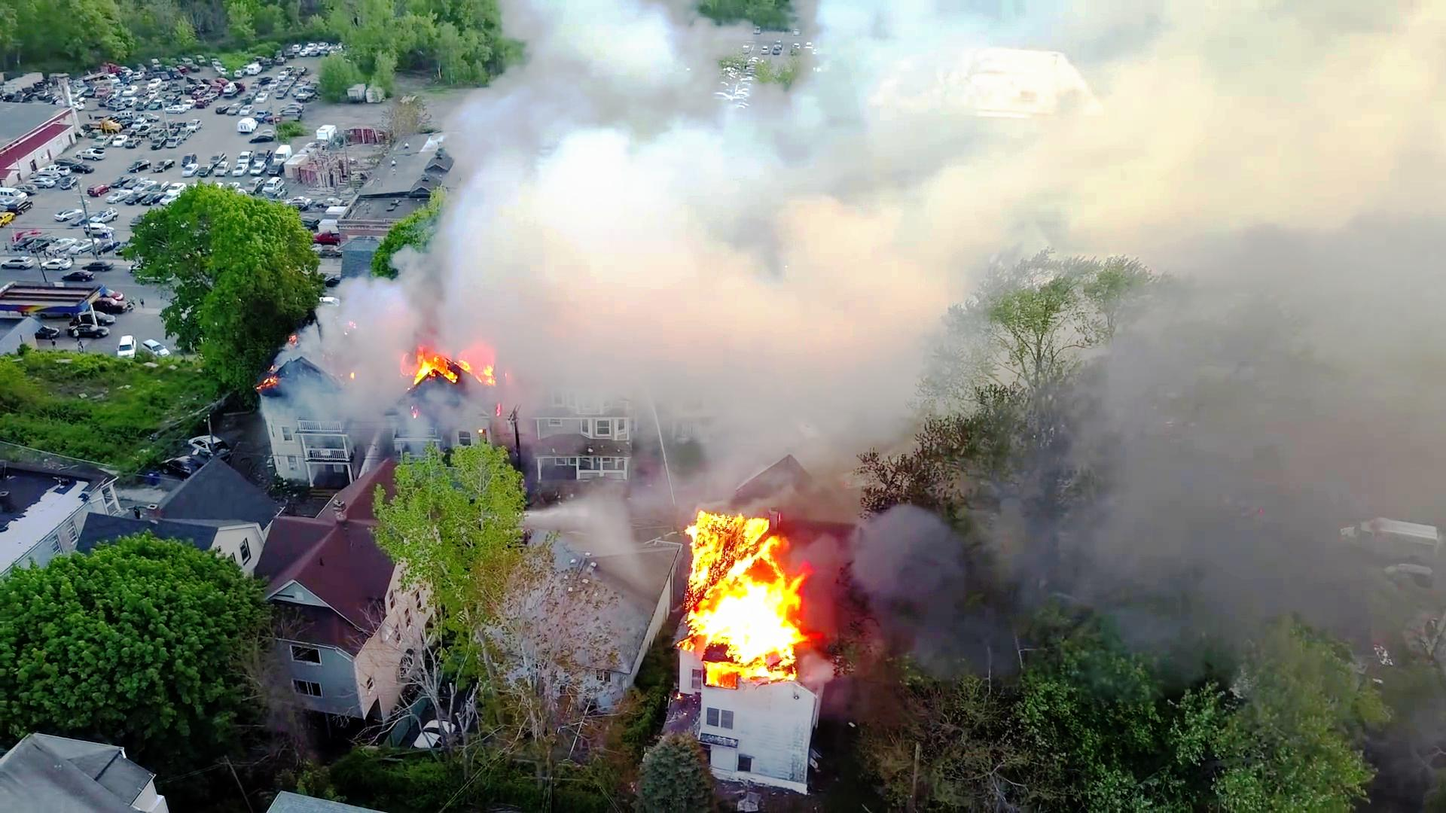fire: (680, 503, 804, 690)
smoke: (445, 192, 876, 350)
